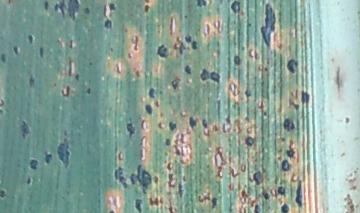tarspot: (128, 163, 152, 196), (260, 2, 276, 48), (56, 137, 73, 169), (112, 165, 127, 190), (199, 68, 220, 84), (173, 35, 190, 54), (17, 120, 31, 141), (67, 1, 79, 22), (286, 56, 299, 75), (281, 117, 296, 133), (247, 171, 263, 186), (129, 34, 141, 53), (295, 179, 303, 207), (156, 43, 169, 60), (54, 1, 67, 18), (286, 139, 296, 159), (166, 172, 178, 188), (238, 190, 250, 206), (286, 97, 300, 110), (132, 198, 144, 213), (228, 81, 240, 96), (125, 122, 135, 139), (230, 1, 242, 14), (59, 85, 71, 98), (280, 159, 291, 173), (42, 151, 53, 165), (188, 115, 199, 129), (197, 191, 211, 202), (299, 89, 309, 104), (167, 15, 174, 36), (27, 72, 36, 88), (27, 158, 38, 171), (102, 17, 113, 30), (170, 76, 181, 89), (66, 58, 73, 78), (143, 102, 153, 116), (211, 20, 221, 34), (209, 196, 218, 211), (221, 122, 232, 134), (229, 167, 241, 178), (276, 185, 286, 198), (146, 196, 159, 206), (172, 144, 182, 157), (238, 162, 248, 175), (176, 182, 184, 198), (147, 87, 156, 101), (166, 120, 177, 131), (202, 23, 210, 38), (183, 64, 192, 77), (244, 135, 254, 146), (190, 39, 199, 51), (38, 45, 45, 60), (166, 198, 173, 213), (261, 191, 271, 201), (280, 202, 289, 213), (252, 48, 259, 62), (26, 33, 34, 45), (179, 131, 186, 144), (232, 55, 241, 65), (11, 45, 20, 55), (183, 34, 193, 43), (241, 89, 251, 98), (166, 161, 175, 171), (210, 124, 219, 134), (107, 1, 115, 12), (257, 99, 265, 110), (114, 61, 120, 75), (84, 87, 93, 96), (224, 115, 232, 125), (196, 1, 207, 8), (1, 188, 8, 199), (293, 88, 300, 99), (252, 204, 260, 213), (163, 137, 171, 146), (1, 53, 7, 65), (67, 38, 73, 50), (83, 6, 91, 15), (25, 175, 32, 185), (72, 72, 79, 82), (143, 4, 150, 14), (43, 1, 50, 11), (102, 3, 107, 17), (174, 130, 179, 144), (201, 118, 208, 128), (248, 46, 253, 59), (133, 69, 141, 77), (152, 174, 159, 183), (126, 51, 133, 60), (202, 128, 209, 137), (228, 182, 235, 191), (158, 196, 164, 206), (343, 116, 350, 124), (262, 110, 269, 118), (108, 45, 115, 53), (153, 100, 160, 108), (156, 121, 163, 129), (277, 42, 283, 51), (182, 14, 189, 21), (246, 21, 252, 29), (1, 97, 5, 108), (87, 61, 94, 67), (106, 209, 115, 213), (263, 66, 268, 73), (7, 1, 12, 6), (143, 1, 151, 4), (1, 108, 4, 114)
